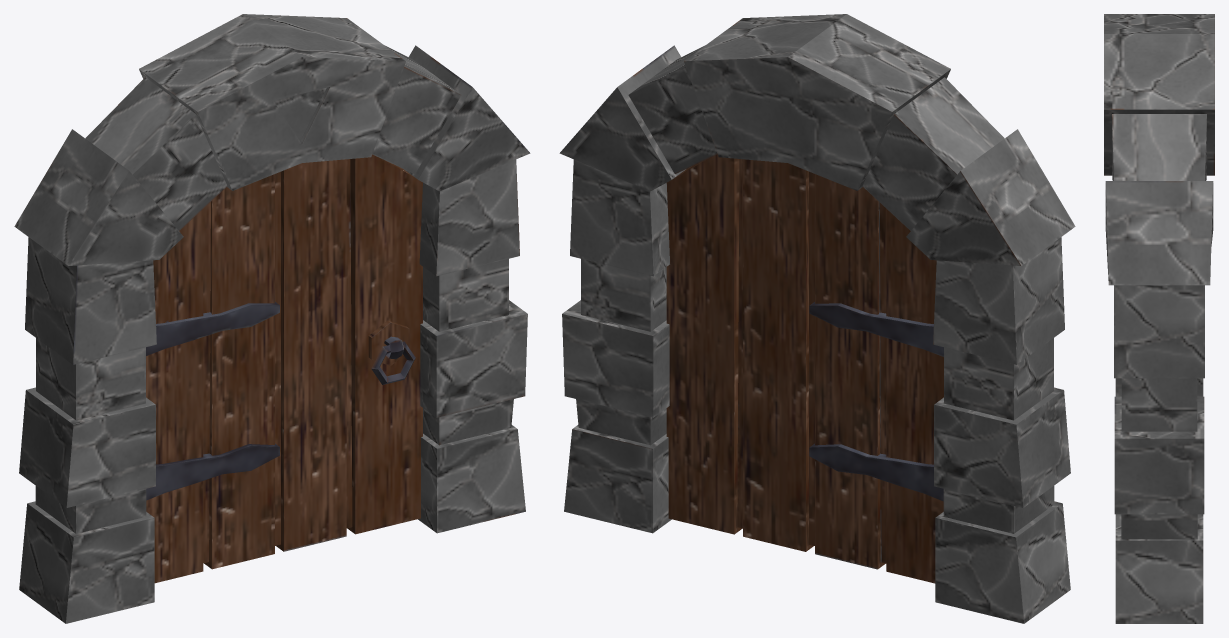
Rendered from DS_Door.fbx.
3 views of the same model, side by side, from view 1: azimuth 30°, elevation 25°; view 2: azimuth 150°, elevation 25°; view 3: azimuth 270°, elevation 25° (orthographic). The views are drawn at different scales.
Visible parts, largest first — view 1: Door Frame.001, Door Frame; view 2: Door Frame.001, Door Frame; view 3: Door Frame.001.
Boxes of the visible parts, <box> form: Door Frame.001: <box>14,14,530,623</box>; Door Frame: <box>146,154,422,583</box>; Door Frame.001: <box>559,14,1075,623</box>; Door Frame: <box>666,154,943,583</box>; Door Frame.001: <box>1104,14,1214,623</box>.
Bounding box in the file's own units: 331 × 352 × 73.09.
1 material, 1 textured.
